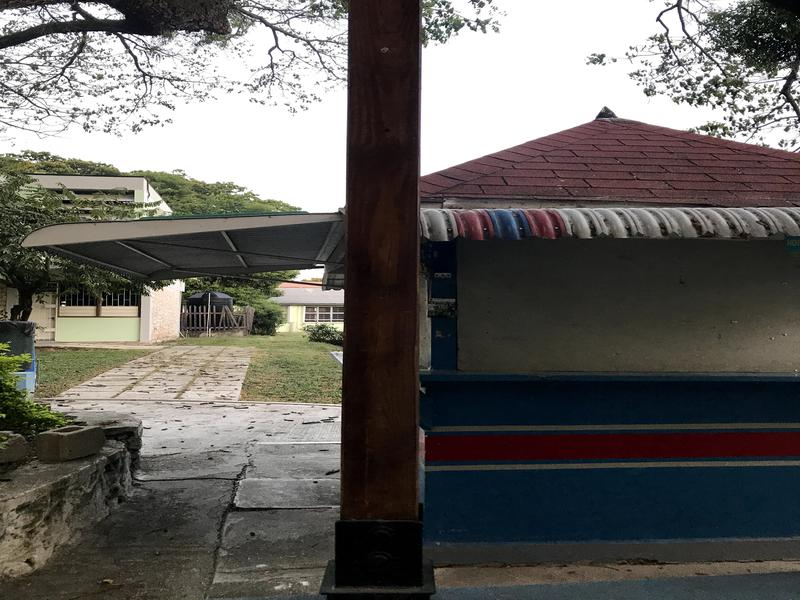18.0051667_-76.74944412_librarystall: (334, 68, 800, 600)
